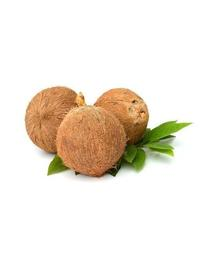coconut: (56, 104, 126, 177), (24, 86, 86, 155), (93, 87, 149, 148)
